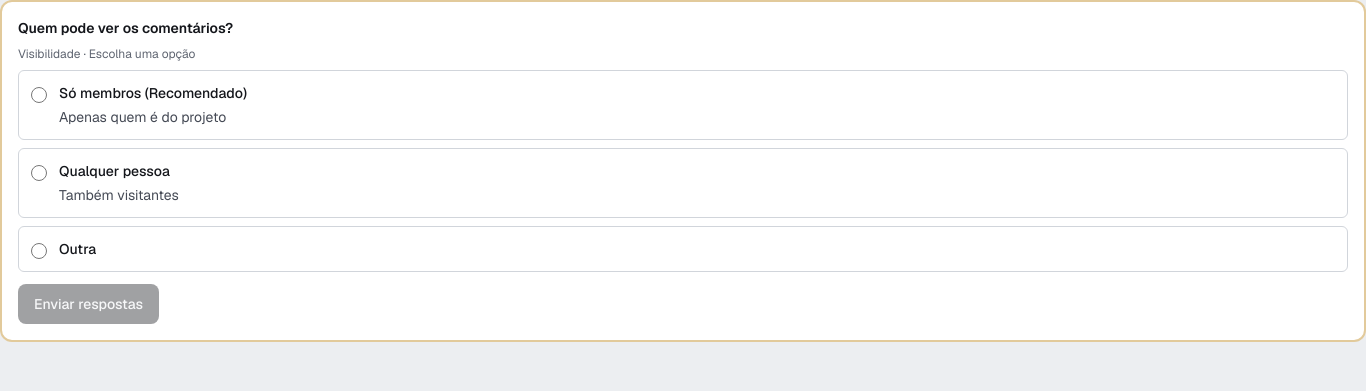
Test: QuestionRequestCard › V-28b shows the server refusal when the request was already answered
Click the radio button labelled "Qualquer pessoa Também visitantes". click: [39, 173]
box: [31, 165, 47, 181]
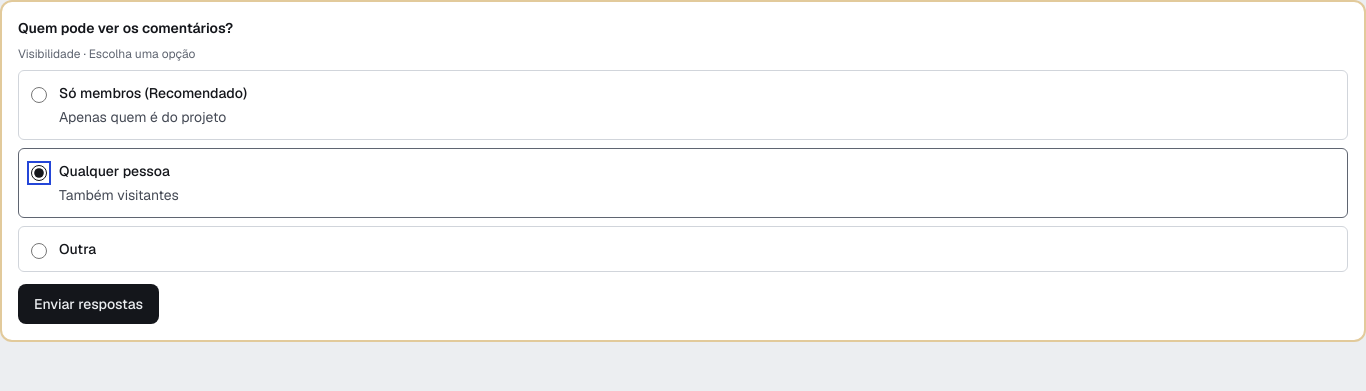
Click the button "Enviar respostas". click: [88, 304]
box: [18, 284, 159, 324]
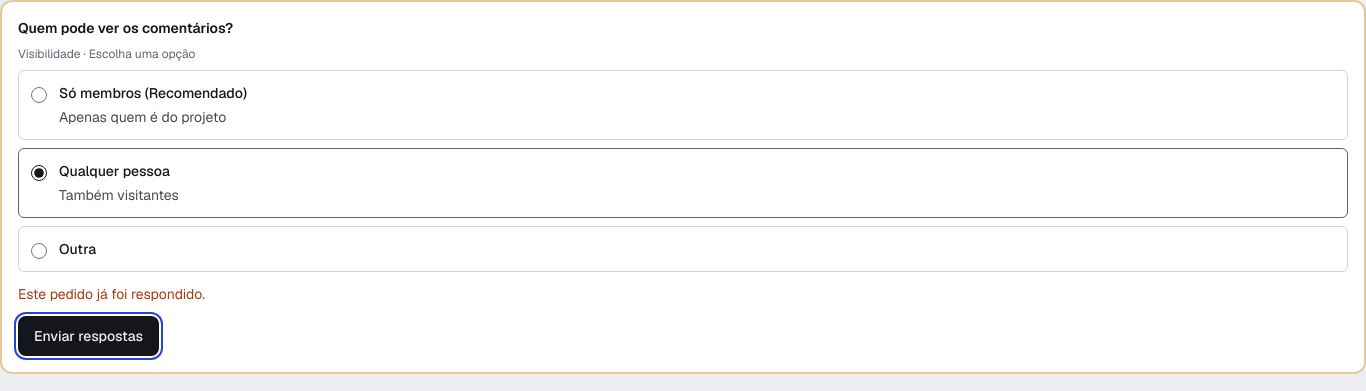
expect the message reads "Este pedido já foi respondido.": met, box [18, 285, 205, 303]
